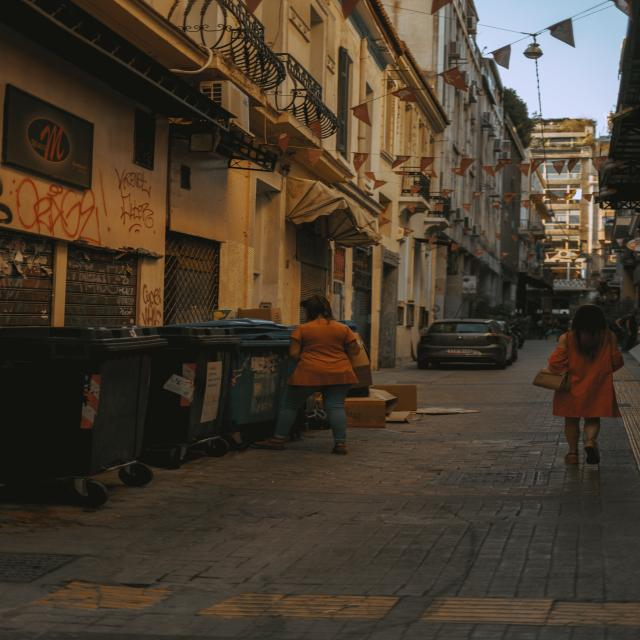cardboard: (352, 392, 417, 422)
